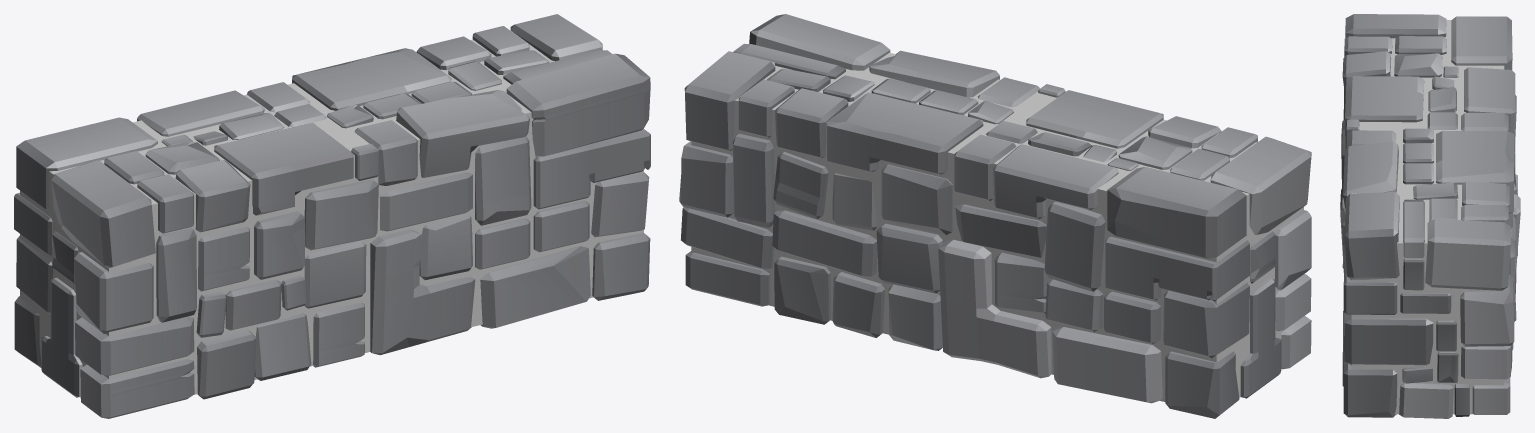
Rendered from brick wall.fbx.
The picture shows the model from 3 angles, left to right: view 1: azimuth 30°, elevation 25°; view 2: azimuth 150°, elevation 25°; view 3: azimuth 270°, elevation 25°; orthographic projection. The views are drawn at different scales.
Parts seen in each view (by area): view 1: Cube, Cube.050, Cube.057, Cube.032, Cube.034, Cube.048, Cube.058, Cube.011, Cube.027, Cube.052, Cube.040, Cube.041 (+43 smaller); view 2: Cube, Cube.011, Cube.003, Cube.027, Cube.009, Cube.002, Cube.013, Cube.032, Cube.029, Cube.004, Cube.034, Cube.010 (+40 smaller); view 3: Cube, Cube.029, Cube.050, Cube.027, Cube.056, Cube.034, Cube.021, Cube.011, Cube.048, Cube.059, Cube.013, Cube.032 (+33 smaller).
Boxes of the visible parts, x1=… form: Cube: x1=20, y1=30, x2=643, y2=394; Cube.050: x1=506, y1=53, x2=650, y2=156; Cube.057: x1=370, y1=229, x2=475, y2=355; Cube.032: x1=51, y1=160, x2=155, y2=267; Cube.034: x1=214, y1=123, x2=353, y2=215; Cube.048: x1=396, y1=90, x2=530, y2=177; Cube.058: x1=480, y1=246, x2=590, y2=328; Cube.011: x1=16, y1=117, x2=157, y2=209; Cube.027: x1=292, y1=48, x2=451, y2=110; Cube.052: x1=533, y1=129, x2=650, y2=209; Cube.040: x1=74, y1=252, x2=153, y2=333; Cube.041: x1=75, y1=316, x2=194, y2=375; Cube: x1=691, y1=52, x2=1303, y2=401; Cube.011: x1=1107, y1=167, x2=1246, y2=258; Cube.003: x1=938, y1=239, x2=1051, y2=378; Cube.027: x1=827, y1=92, x2=983, y2=174; Cube.009: x1=1105, y1=236, x2=1249, y2=301; Cube.002: x1=1052, y1=327, x2=1162, y2=403; Cube.013: x1=993, y1=144, x2=1118, y2=219; Cube.032: x1=1210, y1=136, x2=1311, y2=234; Cube.029: x1=684, y1=51, x2=775, y2=150; Cube.004: x1=1163, y1=282, x2=1249, y2=358; Cube.034: x1=1026, y1=90, x2=1163, y2=148; Cube.010: x1=1044, y1=201, x2=1105, y2=291; Cube: x1=1352, y1=20, x2=1504, y2=414; Cube.029: x1=1425, y1=218, x2=1510, y2=290; Cube.050: x1=1344, y1=191, x2=1399, y2=280; Cube.027: x1=1436, y1=131, x2=1513, y2=213; Cube.056: x1=1344, y1=313, x2=1433, y2=365; Cube.034: x1=1345, y1=76, x2=1424, y2=136; Cube.021: x1=1460, y1=274, x2=1514, y2=346; Cube.011: x1=1451, y1=16, x2=1512, y2=69; Cube.048: x1=1343, y1=141, x2=1398, y2=208; Cube.059: x1=1343, y1=353, x2=1397, y2=417; Cube.013: x1=1464, y1=67, x2=1515, y2=133; Cube.032: x1=1345, y1=14, x2=1446, y2=38.
Size of the model in its own units: 1738 by 667 by 575.
